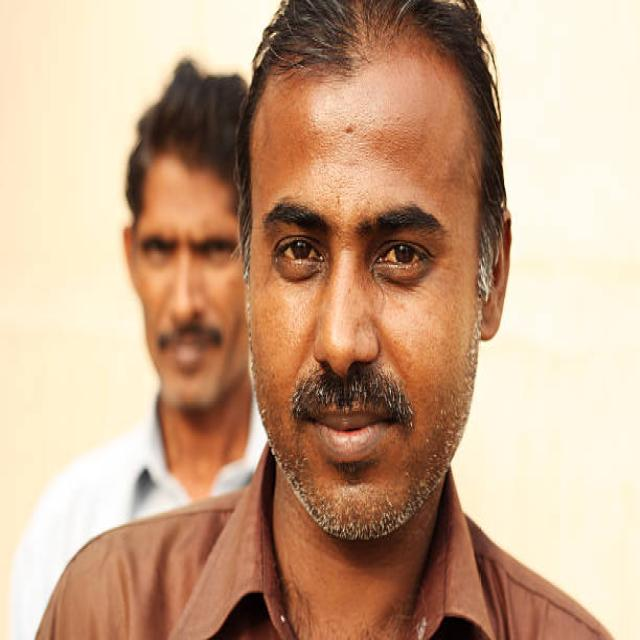low: (372, 265, 437, 301), (279, 262, 323, 290)
